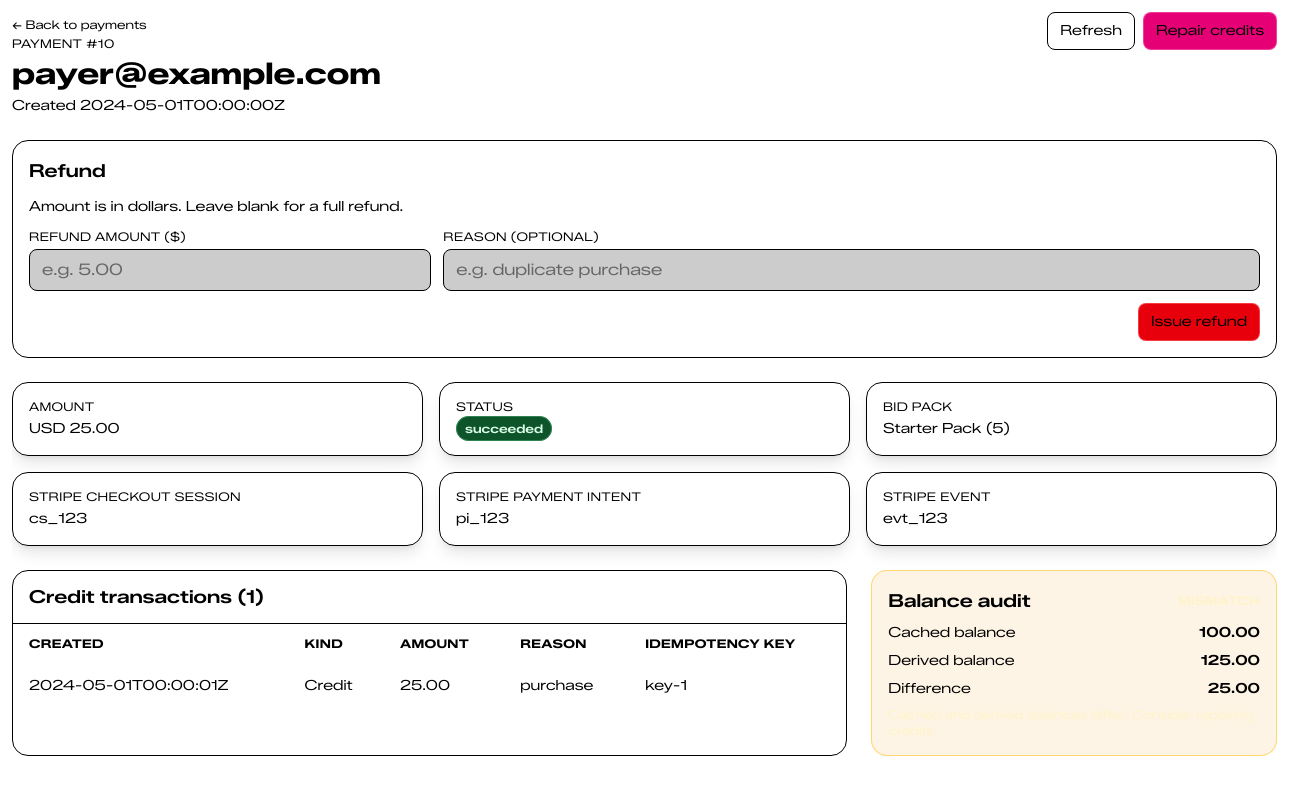
Scenario: AdminPaymentDetailPage › shows an error message when refund fails
The image size is (1292, 812).
Expected: the heading "payer@example.com" is shown, [12,56,381,92]
Click the button "Issue refund": (1199, 322) [1138,303,1260,341]
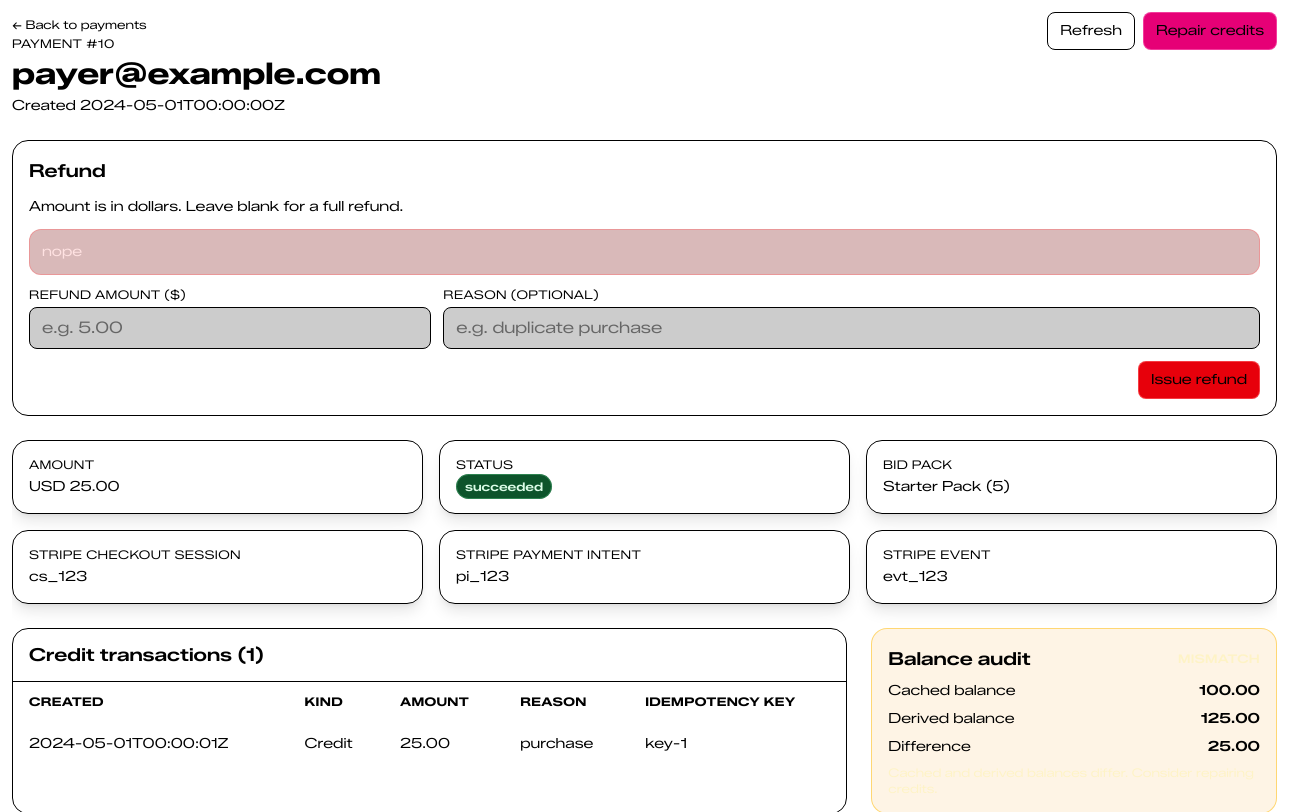
Expected: the text "nope" is shown, [29,229,1260,275]
